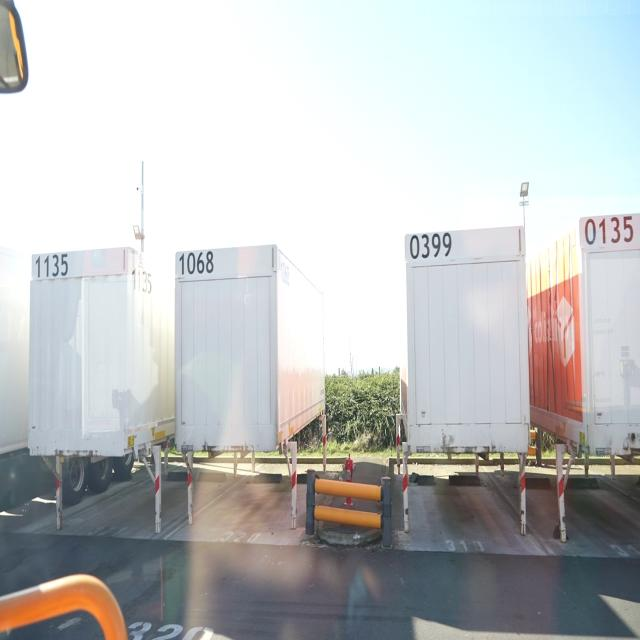Code: (583, 212, 638, 252), (408, 230, 452, 267), (32, 249, 70, 280), (176, 250, 214, 278), (129, 262, 153, 298)
